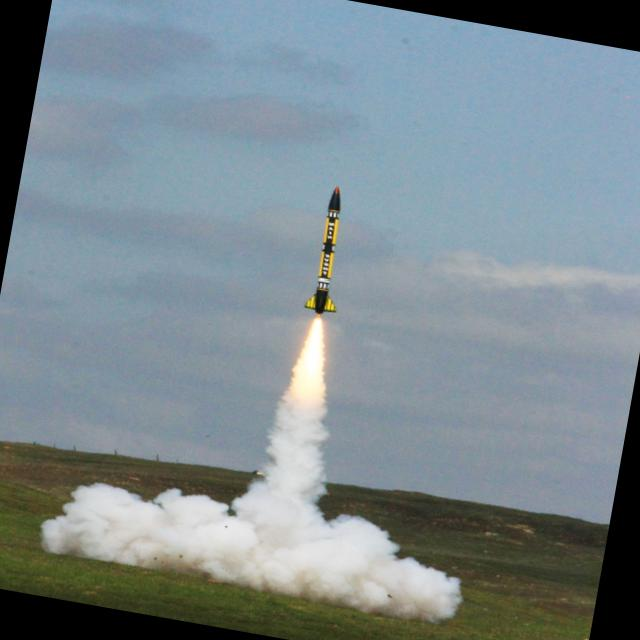rocket: (268, 176, 373, 408)
